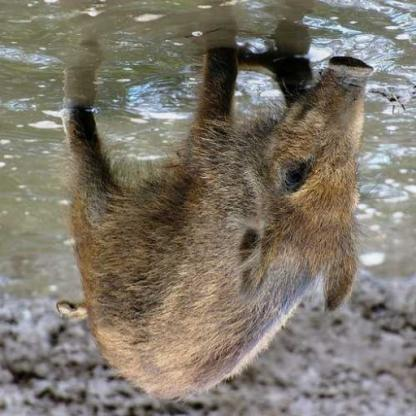boar: (69, 32, 385, 404)
